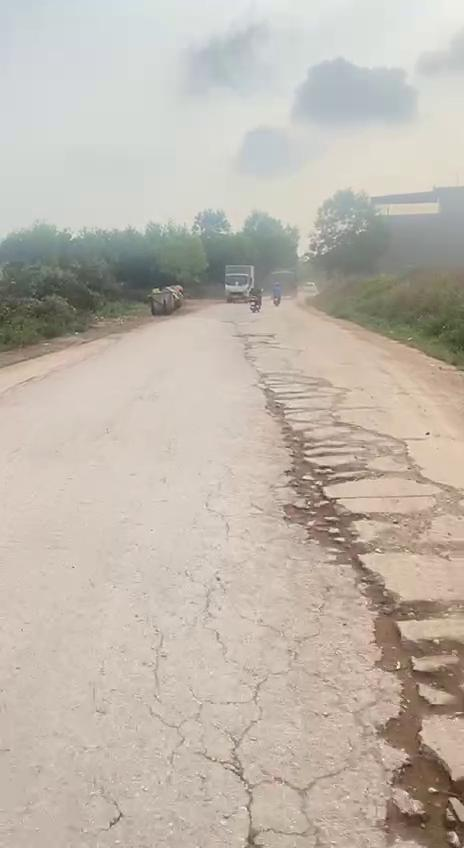pothole: (338, 542, 464, 848), (255, 397, 445, 557)
